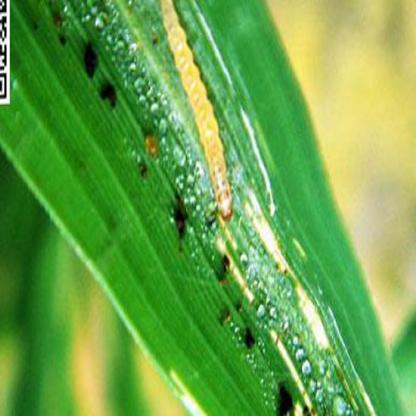leaf-folder: (144, 3, 253, 226)
